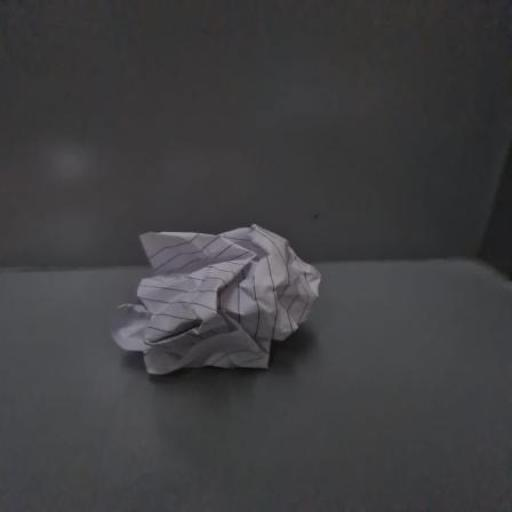paper: (33, 194, 394, 398)
